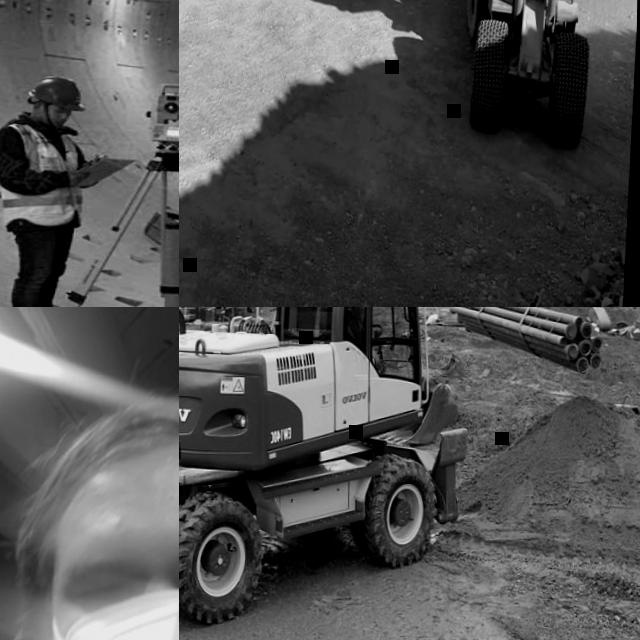Hardhat: (27, 75, 88, 111)
NO-Hardhat: (52, 393, 179, 548)
NO-Mask: (42, 113, 68, 127)
Person: (0, 385, 179, 640), (0, 74, 92, 307), (347, 307, 384, 370)
Safety Vest: (1, 121, 88, 233), (348, 307, 367, 334)
machinery: (179, 307, 532, 631), (457, 0, 630, 154)
